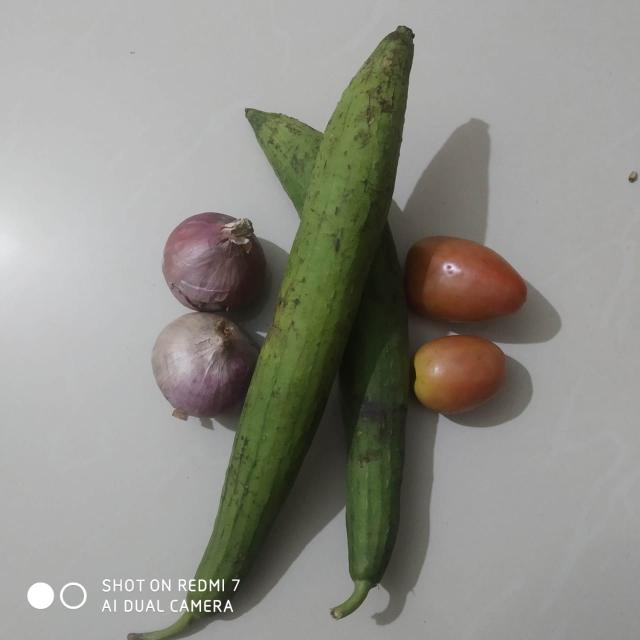Organik: (251, 38, 415, 640), (404, 225, 528, 335), (147, 304, 259, 424), (400, 327, 522, 418), (162, 210, 262, 313)
